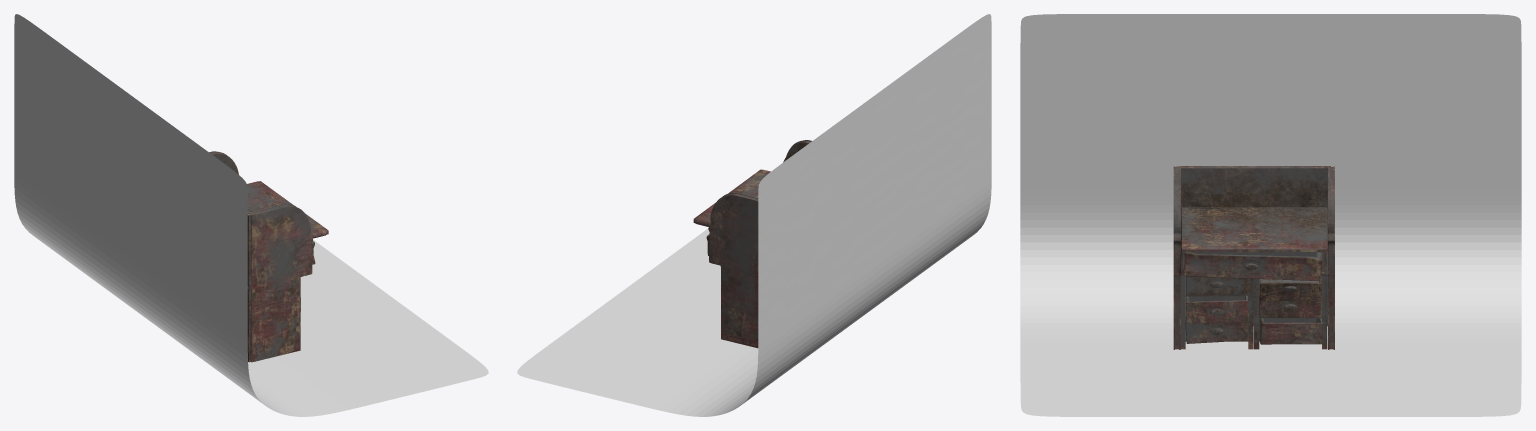
File: uploads_files_5014510_Desk.fbx
3 views of the same model, side by side, from view 1: azimuth 30°, elevation 25°; view 2: azimuth 150°, elevation 25°; view 3: azimuth 270°, elevation 25° (orthographic). The views are drawn at different scales.
Visible parts, largest first — view 1: Plane, desk18, desk8, desk19; view 2: Plane, desk20, desk8; view 3: Plane, desk8, desk19, desk15, desk9, desk6, desk18, desk13, desk20, desk5, desk7, desk11 (+3 smaller).
Boxes of the visible parts, x1,y1,x2,y2 form: Plane: (14, 14, 488, 416); desk18: (248, 204, 312, 362); desk8: (247, 181, 328, 238); desk19: (247, 211, 250, 362); Plane: (517, 14, 991, 416); desk20: (708, 192, 758, 348); desk8: (693, 169, 770, 226); Plane: (1020, 14, 1521, 416); desk8: (1180, 207, 1327, 252); desk19: (1176, 166, 1330, 326); desk15: (1183, 252, 1322, 280); desk9: (1259, 318, 1323, 344); desk6: (1186, 295, 1248, 323); desk18: (1173, 166, 1180, 349); desk13: (1259, 276, 1321, 300); desk20: (1328, 166, 1334, 349); desk5: (1185, 318, 1248, 343); desk7: (1186, 276, 1248, 295); desk11: (1259, 296, 1321, 317).
Bounding box in the file's own units: 22428 × 21940 × 36421.
